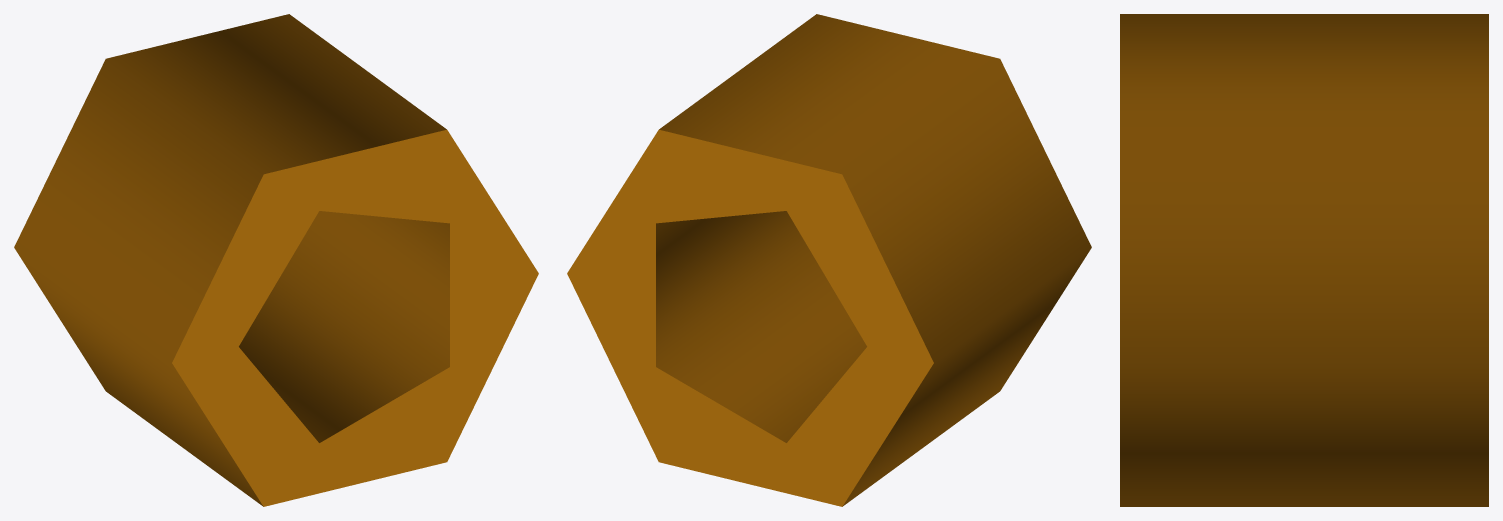
The model's file is Copie de Piece laiton D 1.5_Laiton _X2_00d8_X0_3.5^Copie de ASS pilier 3_Horloge Comtoise Verge - Sonnerie.obj.
3 views of the same model, side by side, from view 1: azimuth 30°, elevation 25°; view 2: azimuth 150°, elevation 25°; view 3: azimuth 270°, elevation 25° (orthographic). The views are drawn at different scales.
Parts seen in each view (by area): view 1: Face_1, Face_2, Face_4; view 2: Face_1, Face_3, Face_4; view 3: Face_1.
Boxes of the visible parts, <box> form: Face_1: <box>14,14,446,506</box>; Face_2: <box>172,129,538,506</box>; Face_4: <box>239,211,449,442</box>; Face_1: <box>659,14,1091,506</box>; Face_3: <box>567,129,933,506</box>; Face_4: <box>656,211,866,442</box>; Face_1: <box>1120,14,1488,506</box>.
Size of the model in its own units: 0.0055 by 0.00476 by 0.0041.
